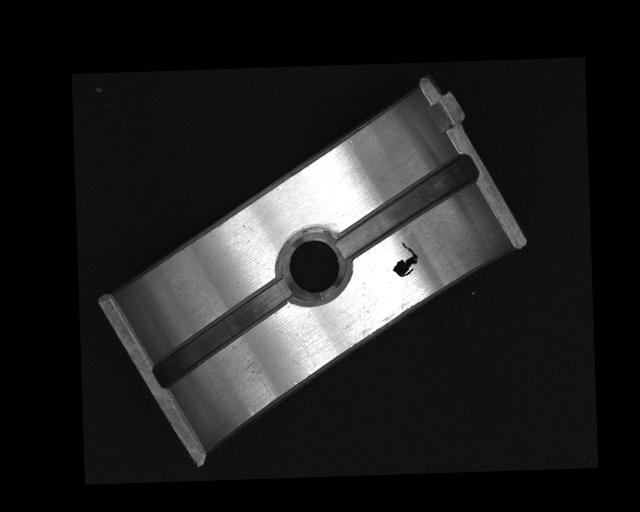blot: (391, 240, 419, 277)
gap: (150, 278, 295, 386), (336, 153, 478, 258)
hole: (284, 231, 347, 299)
